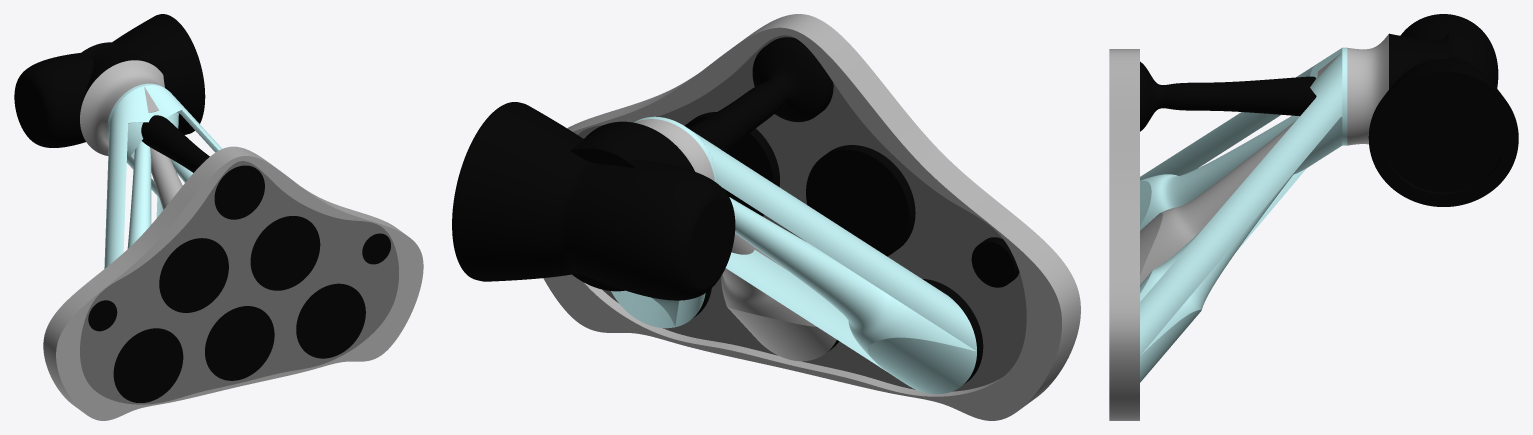
The model's file is rightJet.glb.
3 renders of one model, left to right at view 1: azimuth 30°, elevation 25°; view 2: azimuth 150°, elevation 25°; view 3: azimuth 270°, elevation 25°, orthographic. The views are drawn at different scales.
Parts seen in each view (by area): view 1: Part 10, Part 1, in, in 8, Part 2, Part 6, Part 3, Part 8, Part 7, in 4, Part 9, in 6 (+5 smaller); view 2: in, Part 1, in 8, Part 10, Part 7, in 9, in 7, in 2, in 6, Part 8, Part 4, in 4 (+1 smaller); view 3: in, in 6, Part 1, in 8, in 9, in 7, in 4, in 2, in 5.
Part boxes in pixels (<box>): Part 10: <box>80,161,398,404</box>; Part 1: <box>43,146,423,420</box>; in: <box>14,14,205,147</box>; in 8: <box>104,86,178,268</box>; Part 2: <box>113,328,183,402</box>; Part 6: <box>205,306,274,380</box>; Part 3: <box>296,283,365,358</box>; Part 8: <box>250,216,320,290</box>; Part 7: <box>159,238,228,312</box>; in 4: <box>80,60,164,155</box>; Part 9: <box>214,165,264,219</box>; in 6: <box>126,85,222,197</box>; in: <box>452,102,735,300</box>; Part 1: <box>543,14,1080,420</box>; in 8: <box>688,128,976,394</box>; Part 10: <box>578,35,1026,391</box>; Part 7: <box>806,145,915,256</box>; in 9: <box>688,41,827,153</box>; in 7: <box>721,233,836,361</box>; in 2: <box>570,121,694,171</box>; in 6: <box>611,290,705,328</box>; Part 8: <box>685,112,779,216</box>; Part 4: <box>971,237,1019,287</box>; in 4: <box>635,119,714,181</box>; in: <box>1368,14,1518,206</box>; in 6: <box>1140,53,1342,382</box>; Part 1: <box>1109,49,1139,420</box>; in 8: <box>1140,48,1342,230</box>; in 9: <box>1140,61,1316,131</box>; in 7: <box>1140,52,1342,284</box>; in 4: <box>1347,34,1388,145</box>; in 2: <box>1389,33,1448,89</box>; in 5: <box>1342,47,1347,145</box>.
Bounding box in the file's own units: 2.55 × 1.7 × 2.02.
Materials: 10 (9 with a texture image).
